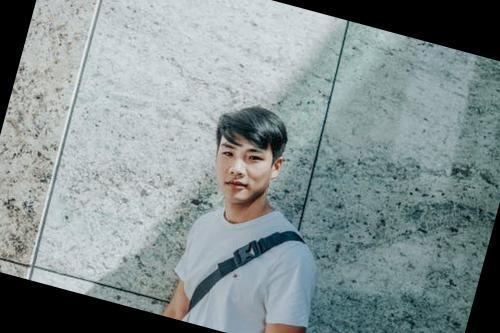Sober: (219, 134, 268, 197)
